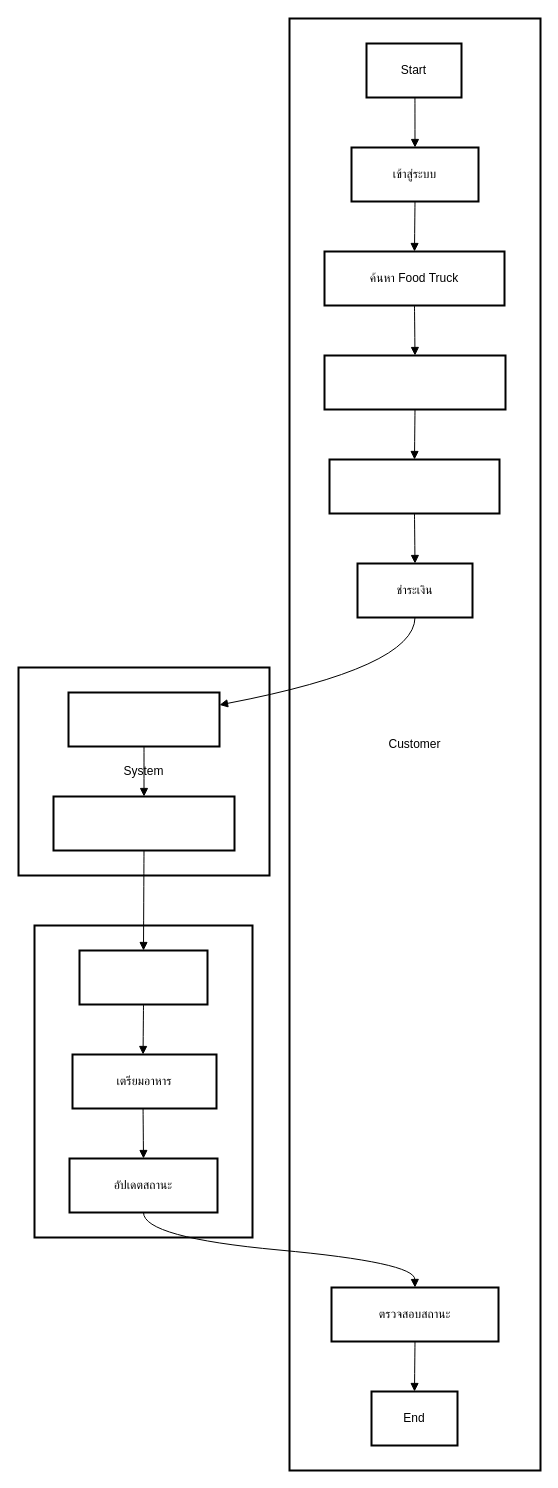
The diagram is 558 pixels wide and 1488 high, and some of its shapes have lost their labels. The shapes that lost their labels are listed below. From the top down, each one's centre as x and y in pixels, then its label:
(x=414, y=382): เลือกเมนู / จำนวน
(x=414, y=486): เลือกวิธีรับอาหาร
(x=143, y=719): บันทึกออเดอร์
(x=143, y=823): แจ้งเตือนไปยังร้าน
(x=143, y=977): รับออเดอร์
